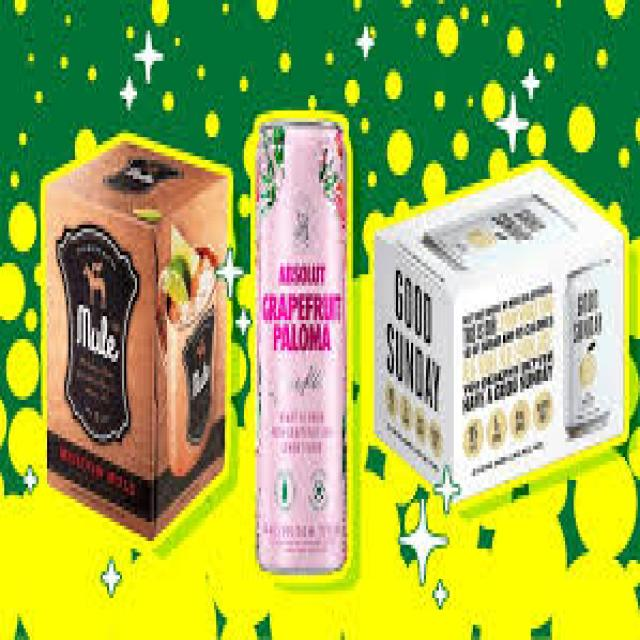Cans: (248, 103, 353, 583)
